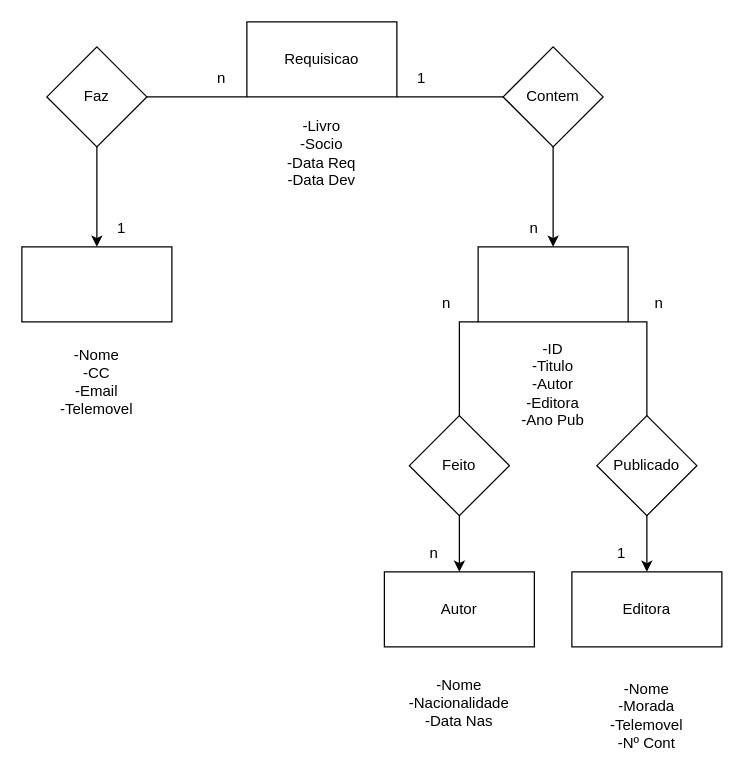
Some shapes in this 744 by 781 pixel diagram are drawn without their labels. Each missing label, with the centre of its shape:
"Livro" belongs at pixel 552 284.
"Socio" belongs at pixel 96 284.
